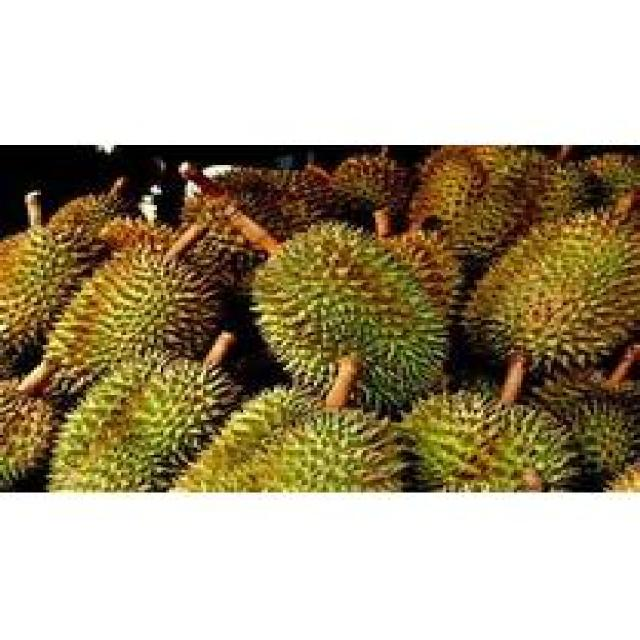fruit: (0, 170, 262, 495), (218, 180, 490, 440), (452, 175, 640, 433)
